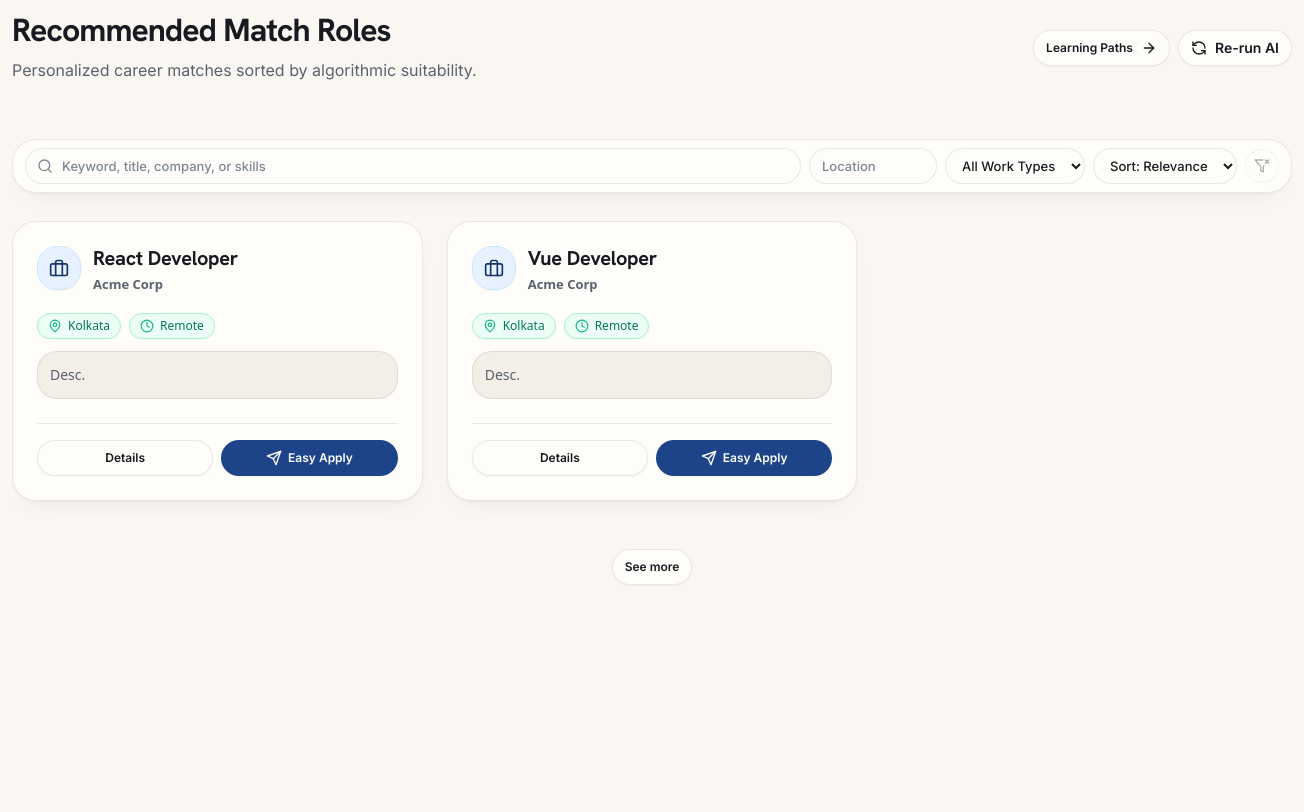
Test: JobsPage — job listing & application contract › fetches the next more_matches page via purpose=browse & more_offset when the client batch is exhausted
Expected: the heading "React Developer" is shown, [93,245,238,271]
Expected: the heading "Vue Developer" is shown, [528,245,657,271]
What coordinates should you click on to do the following:
click the button "See more"
I would click on:
 (652, 567)
Its box is [612,549,692,585].
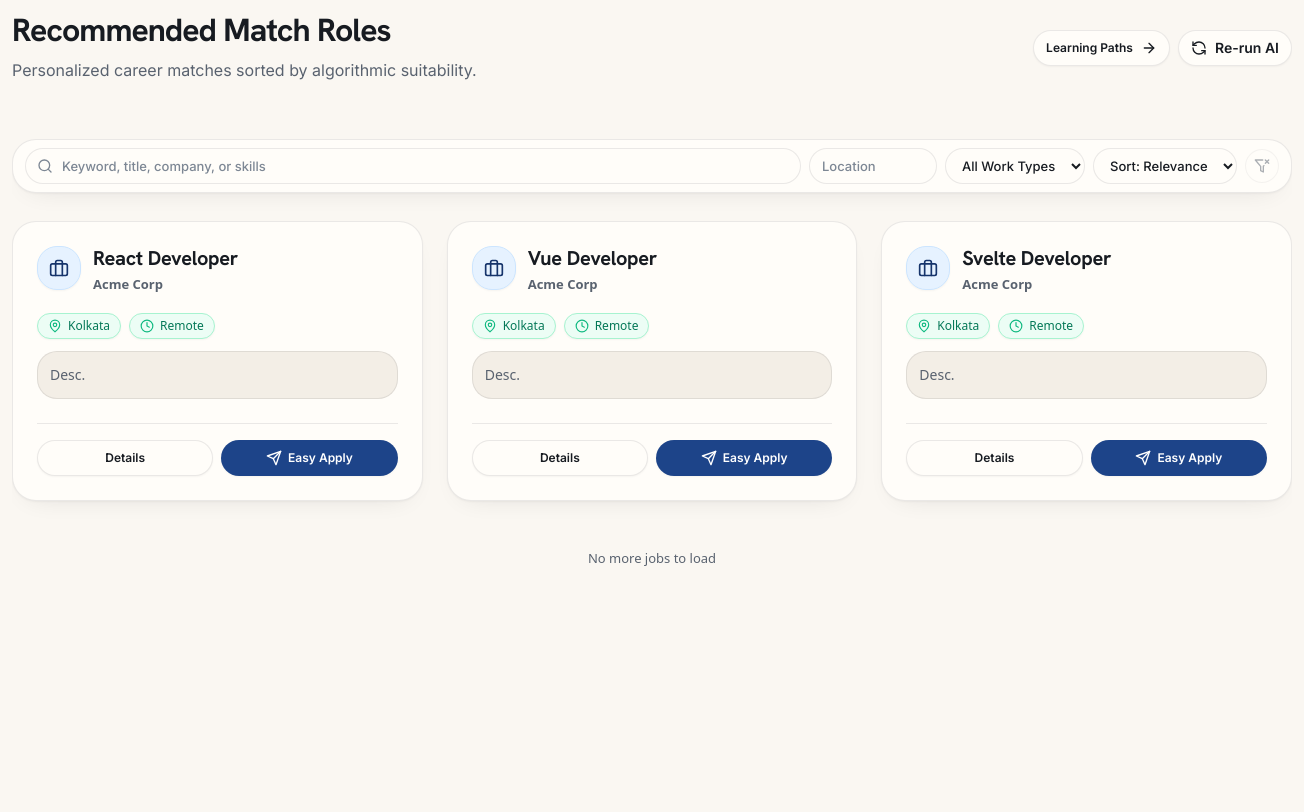
Result: the heading "Svelte Developer" is shown at [962,245,1111,271]
